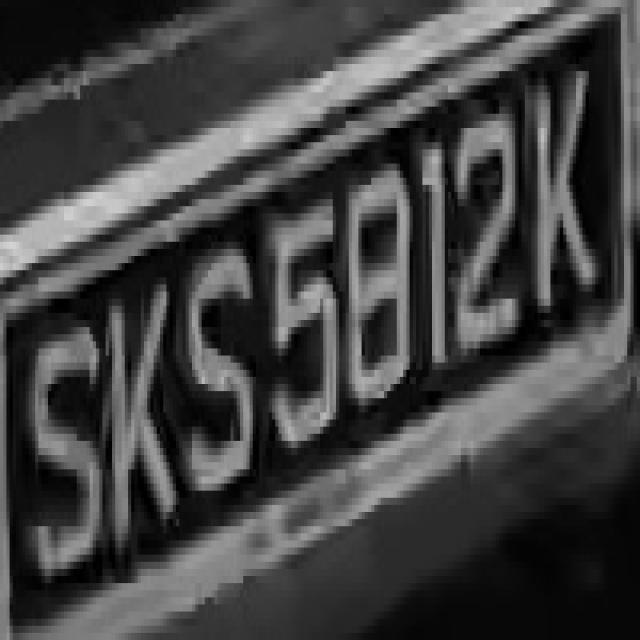1: (407, 107, 458, 391)
2: (461, 121, 528, 377)
5: (272, 192, 346, 469)
8: (336, 142, 419, 420)
K: (93, 277, 182, 562), (525, 57, 598, 341)
S: (26, 284, 106, 612), (186, 242, 259, 519)
